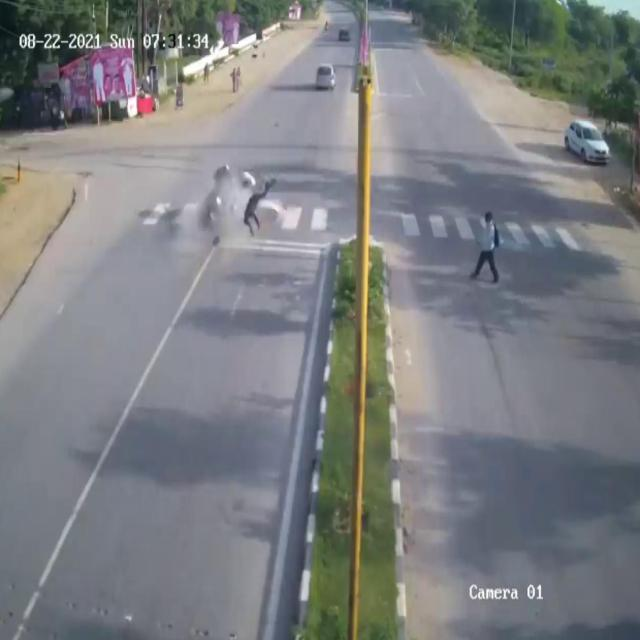accident: (194, 153, 282, 263)
